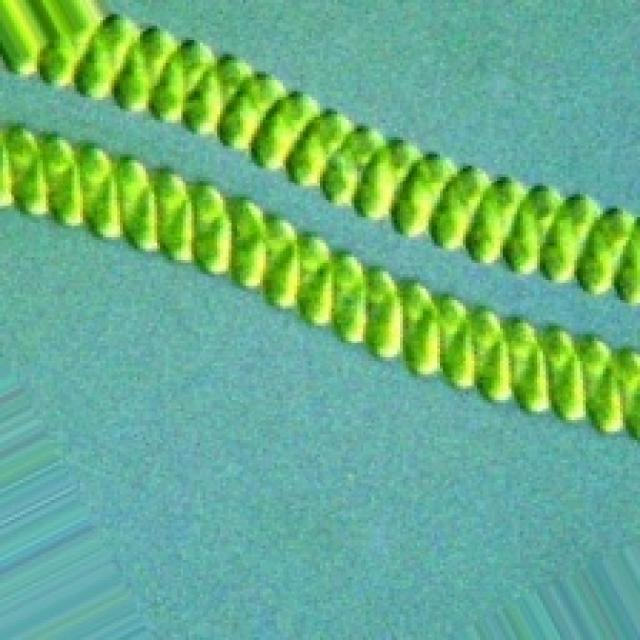Spiral_bacteria: (0, 0, 637, 463)
